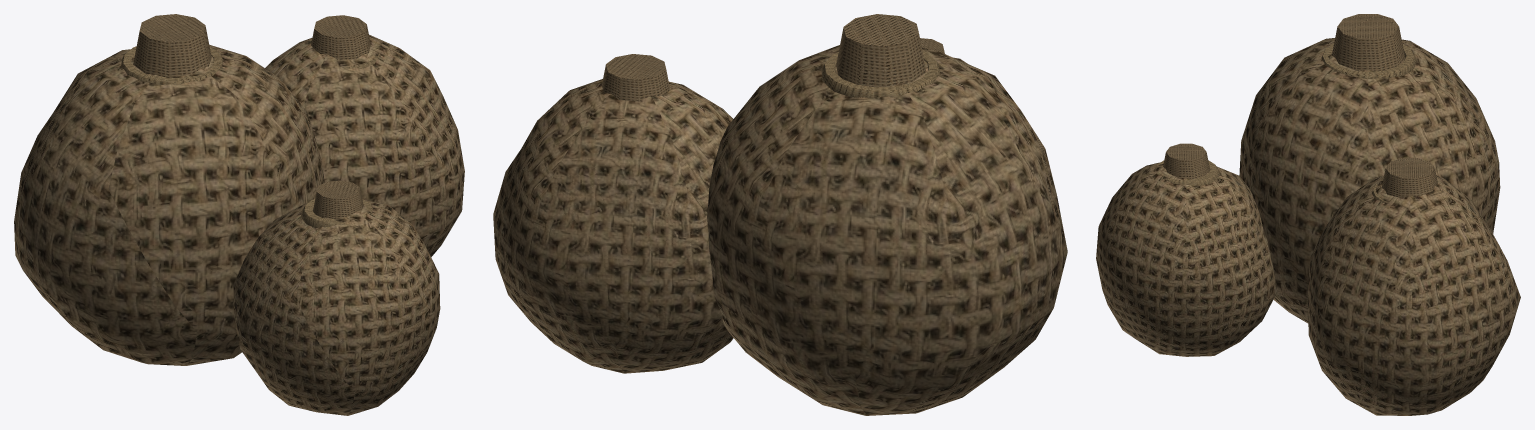
Rendered from sacks-v01-photo.glb.
The picture shows the model from 3 angles, left to right: view 1: azimuth 30°, elevation 25°; view 2: azimuth 150°, elevation 25°; view 3: azimuth 270°, elevation 25°; orthographic projection. The views are drawn at different scales.
Parts seen in each view (by area): view 1: sacks; view 2: sacks; view 3: sacks.
Boxes of the visible parts, left/top/right/bottom form: sacks: left=14, top=14, right=464, bottom=415; sacks: left=493, top=14, right=1067, bottom=415; sacks: left=1096, top=14, right=1520, bottom=415.
Size of the model in its own units: 1.68 by 1.11 by 1.52.
Materials: 2 (2 with a texture image).
